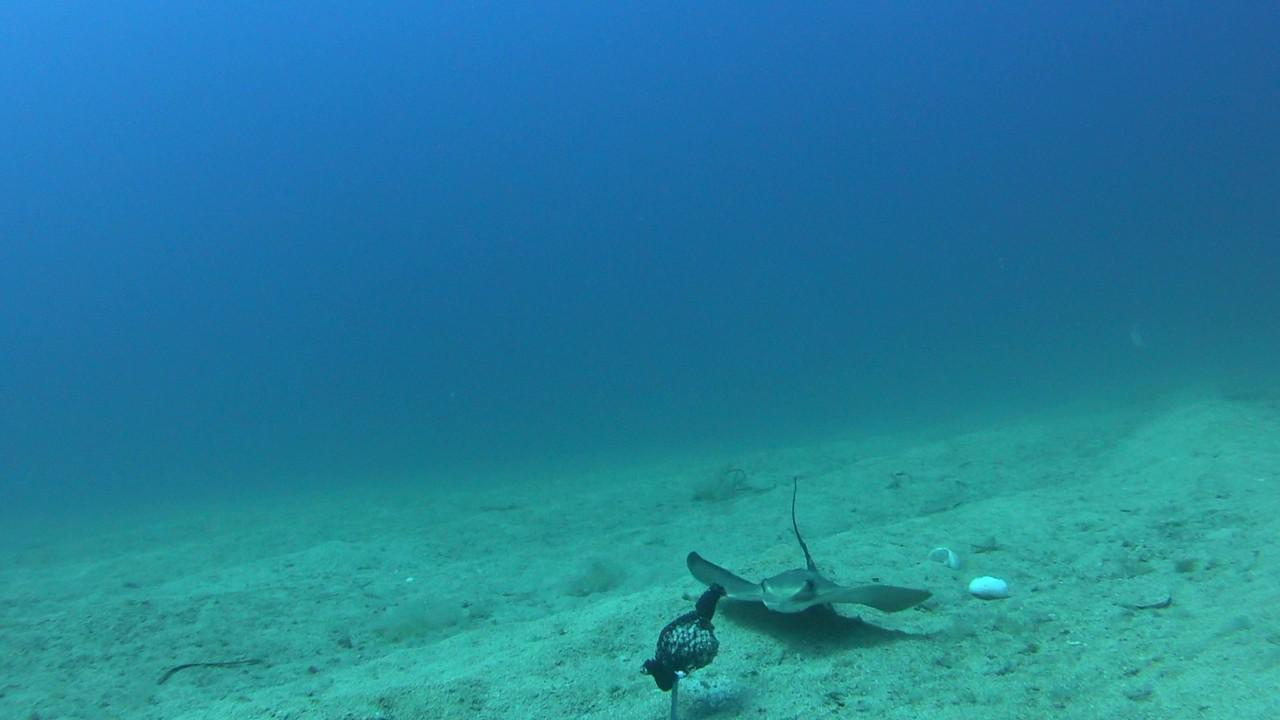myliobatis: (685, 461, 954, 625)
